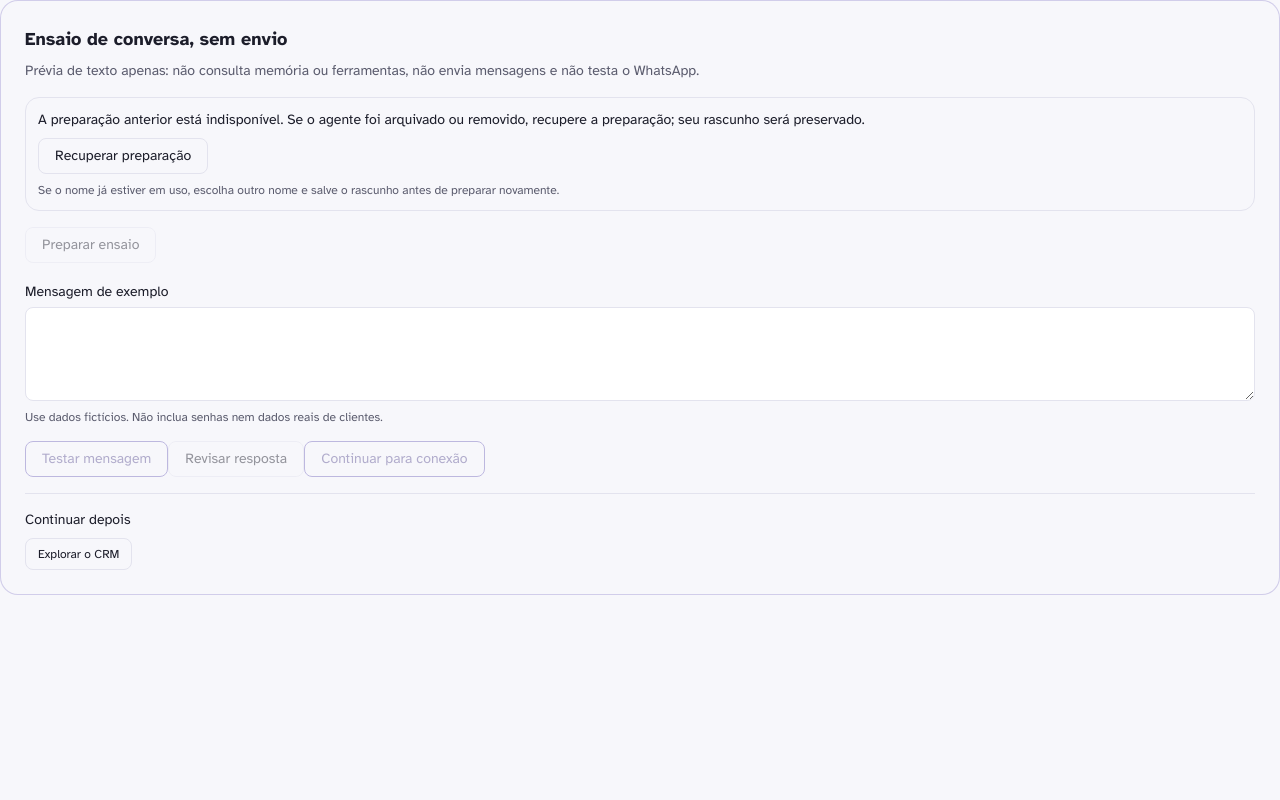
Test: saída visível para preparação arquivada › recupera e volta a permitir preparar sem reutilizar versão obsoleta
Click the button "Recuperar preparação": [123, 156] box [38, 138, 208, 174]
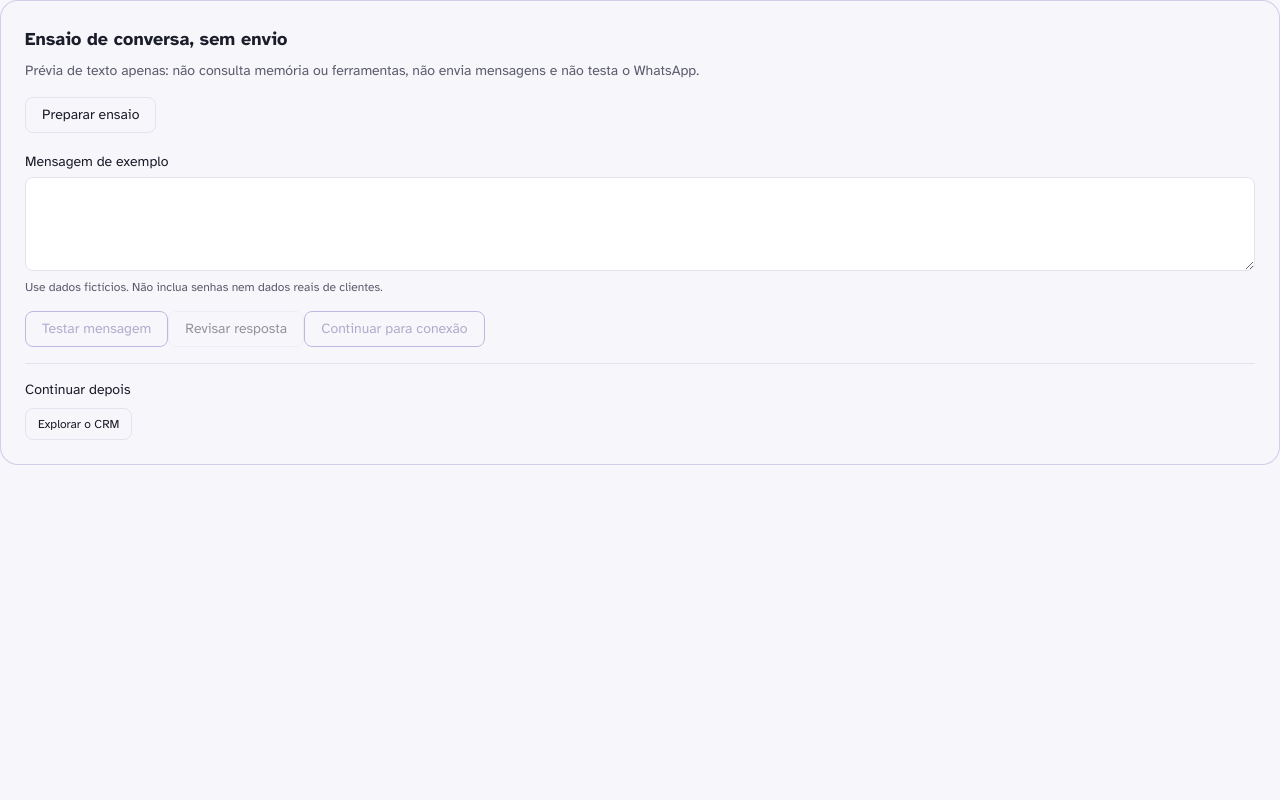
Now the button "Preparar ensaio" is enabled
Click the button "Preparar ensaio": [91, 115] box [25, 97, 156, 133]
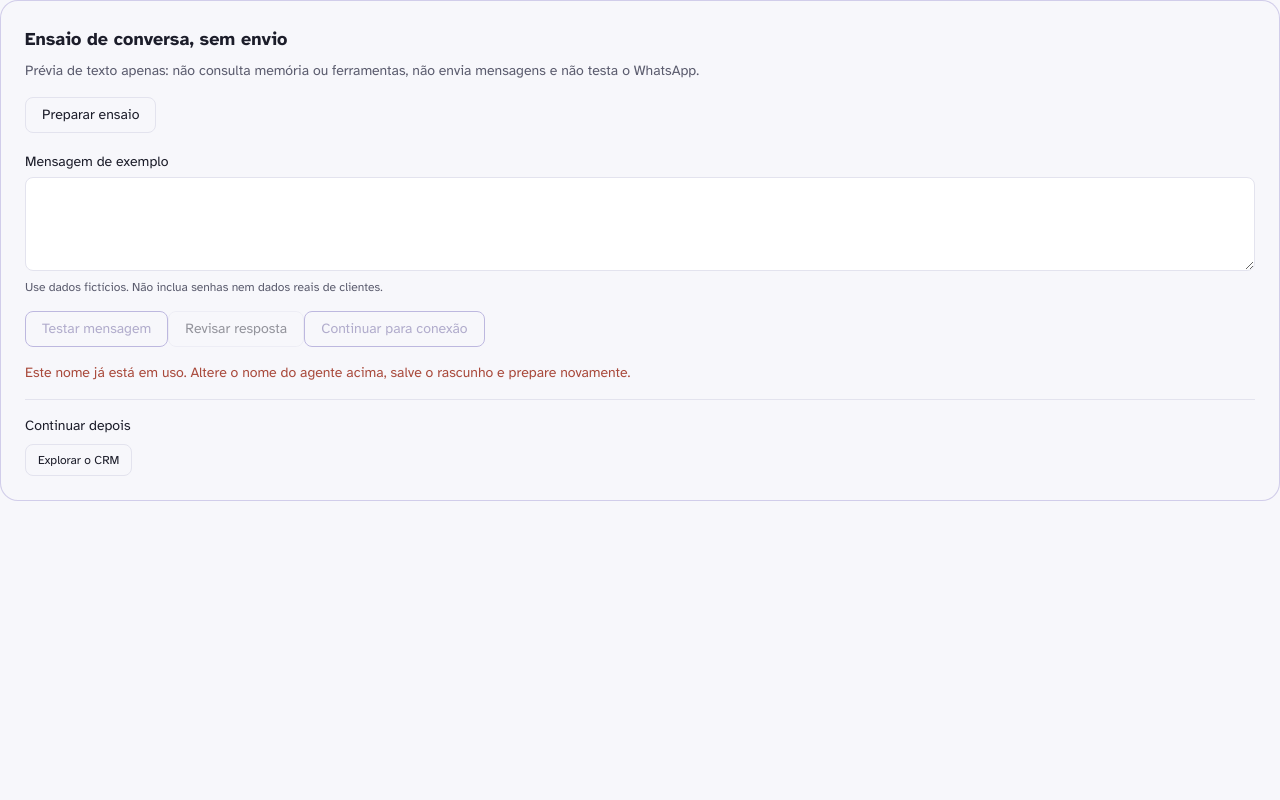
Expected: the button "Continuar para conexão" is disabled, [304, 311, 484, 347]
Now the message shows "nome", box [25, 364, 630, 381]
